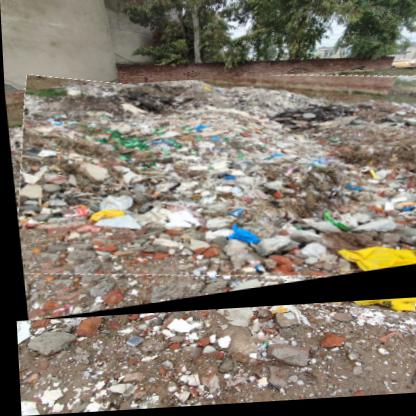Garbage: (4, 72, 416, 324)
